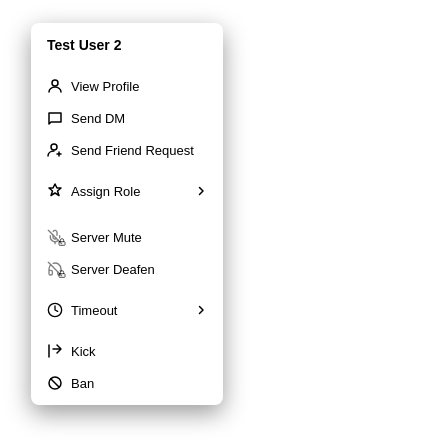
it: MemberContextMenu — extended coverage › role assignment via RBAC › shows "No roles available" when server has no assignable roles
Click the button "Assign Role" at coordinates (127, 191), box [37,175,217,207]
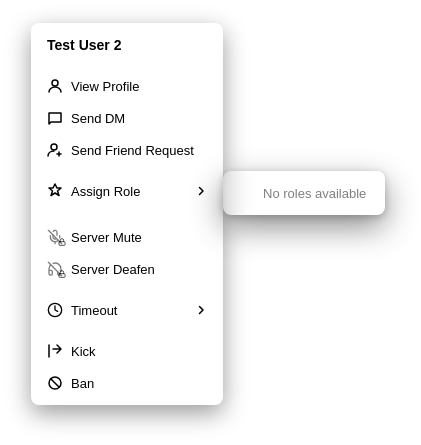
Expected: the text "No roles available" is shown, [263,186,369,200]
